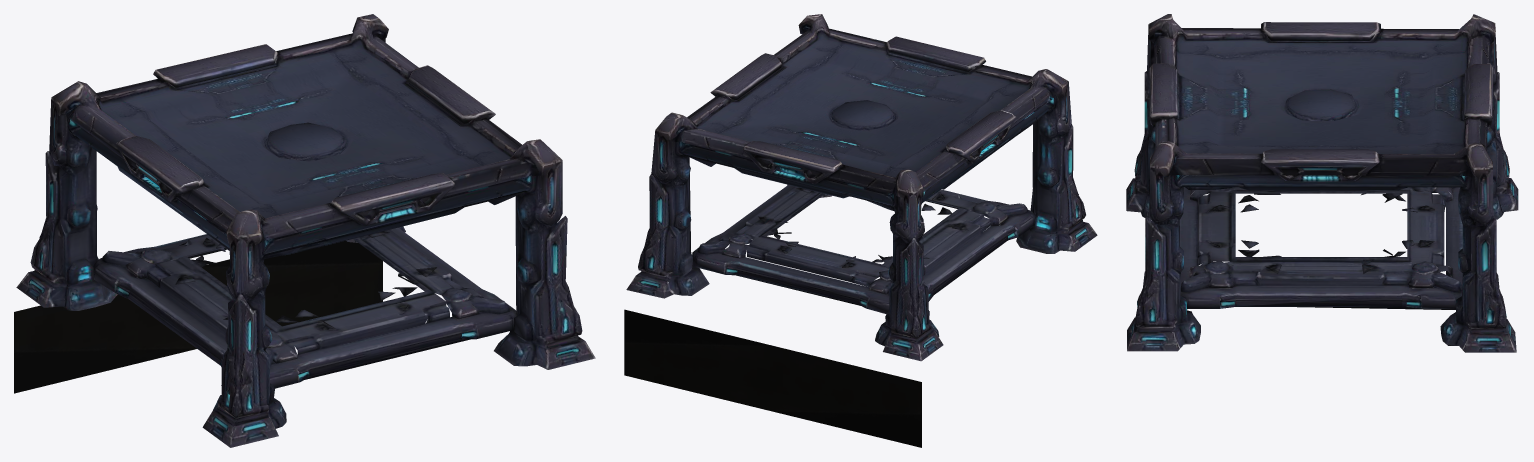
3 renders of one model, left to right at view 1: azimuth 30°, elevation 25°; view 2: azimuth 150°, elevation 25°; view 3: azimuth 270°, elevation 25°, orthographic. The views are drawn at different scales.
Visible parts, largest first — view 1: tripo_node_d6fd6876-dbe1-4aa6-8efe-73b3e9ccfba3; view 2: tripo_node_d6fd6876-dbe1-4aa6-8efe-73b3e9ccfba3; view 3: tripo_node_d6fd6876-dbe1-4aa6-8efe-73b3e9ccfba3.
Boxes of the visible parts, bbox=[...] form: tripo_node_d6fd6876-dbe1-4aa6-8efe-73b3e9ccfba3: bbox=[14, 14, 595, 447]; tripo_node_d6fd6876-dbe1-4aa6-8efe-73b3e9ccfba3: bbox=[624, 14, 1097, 447]; tripo_node_d6fd6876-dbe1-4aa6-8efe-73b3e9ccfba3: bbox=[1126, 14, 1518, 352].
Bounding box in the file's own units: 0.9805 × 0.7988 × 0.998.
1 material, 1 textured.
